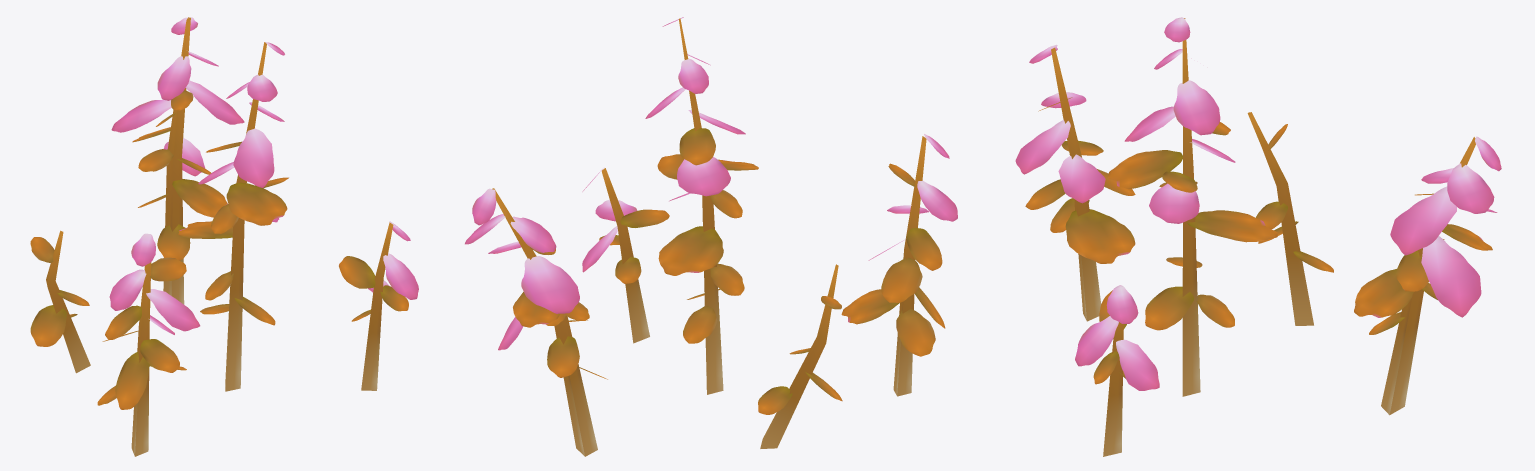
File: P_FlowerDesertPink02.obj
3 renders of one model, left to right at view 1: azimuth 30°, elevation 25°; view 2: azimuth 150°, elevation 25°; view 3: azimuth 270°, elevation 25°, orthographic. The views are drawn at different scales.
Size of the model in its own units: 0.753 by 0.7387 by 0.8779.
